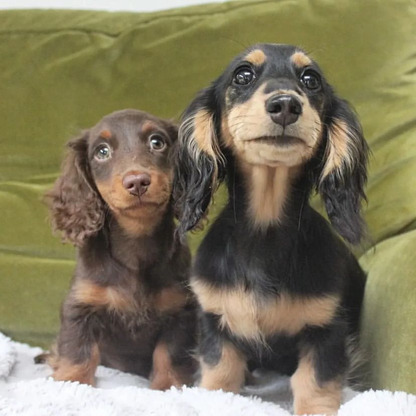dachshund: (187, 41, 395, 408), (56, 104, 205, 394)
